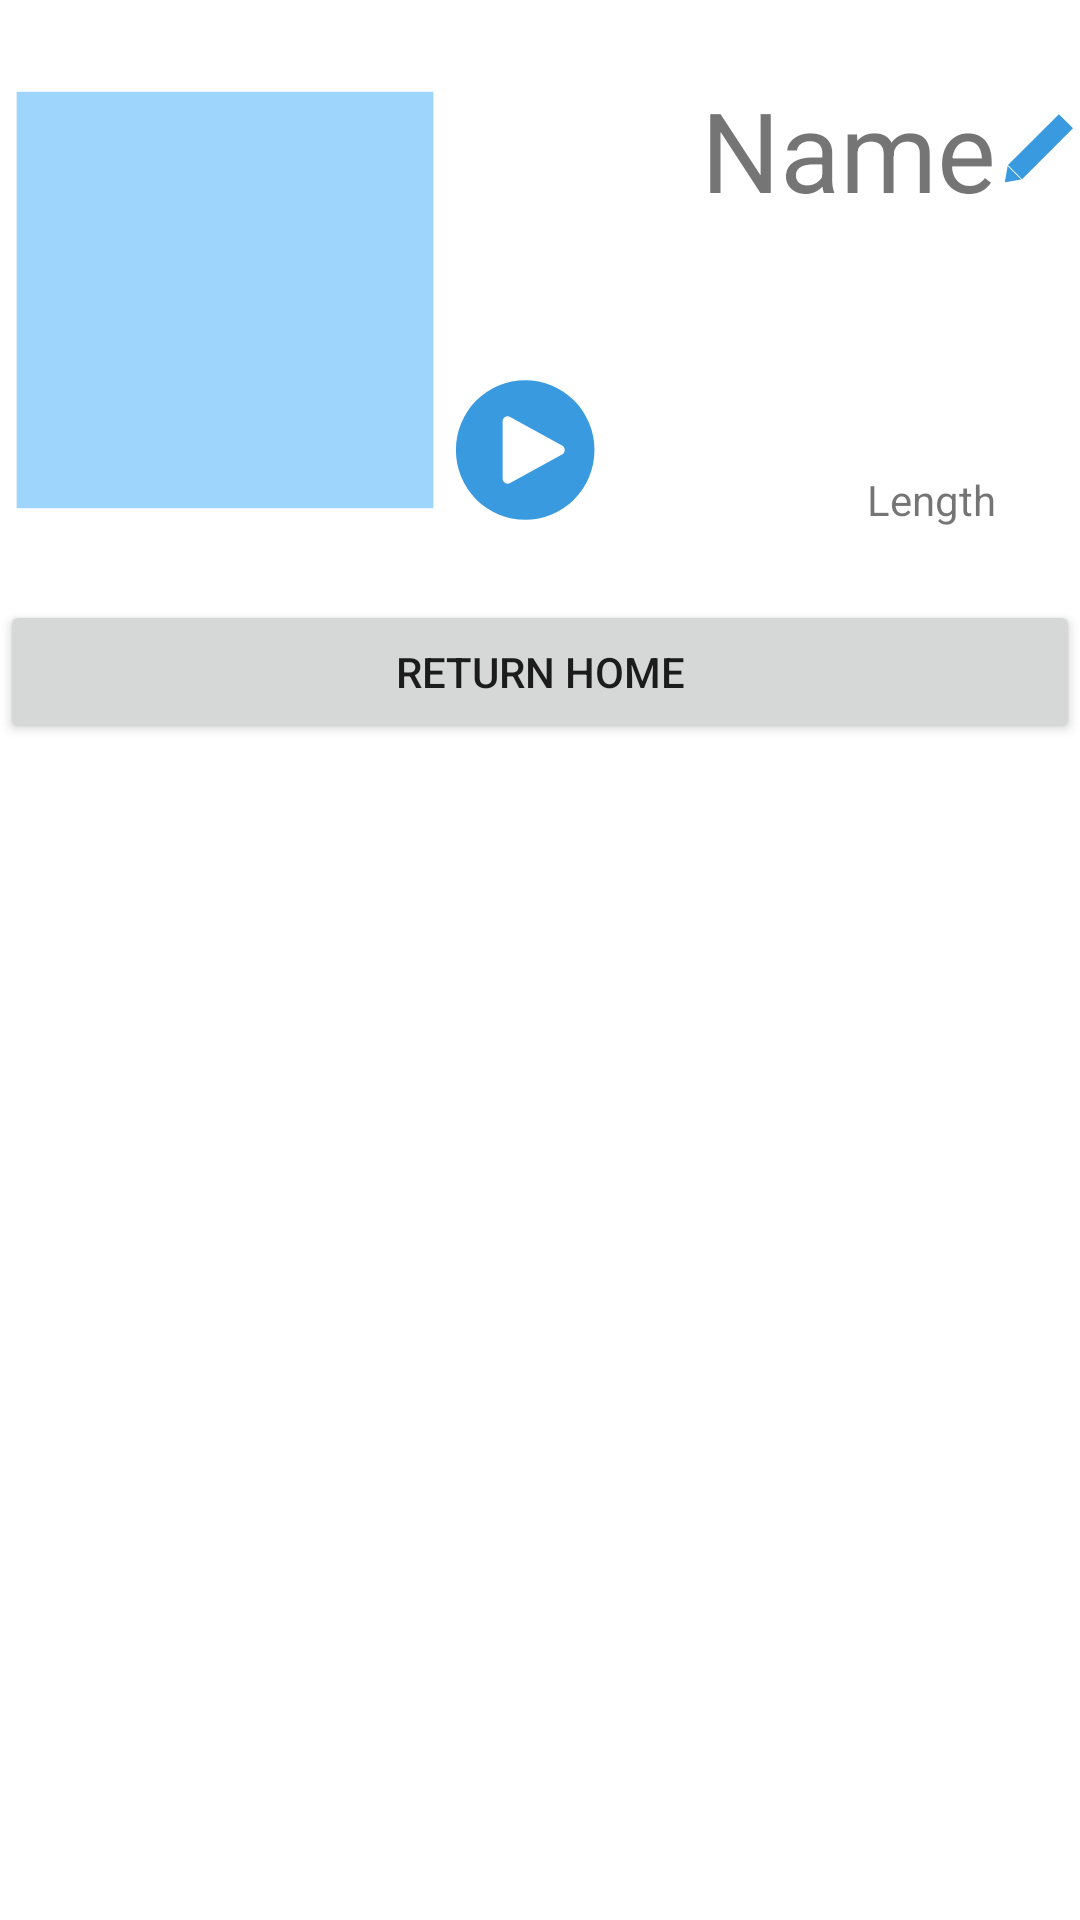

Icon click points for this 1080*1920 phone screenshot, format (x=x, y=y):
pencil: (x=1039, y=148)
play: (x=525, y=450)
